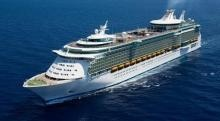youlun: (18, 9, 205, 104)
